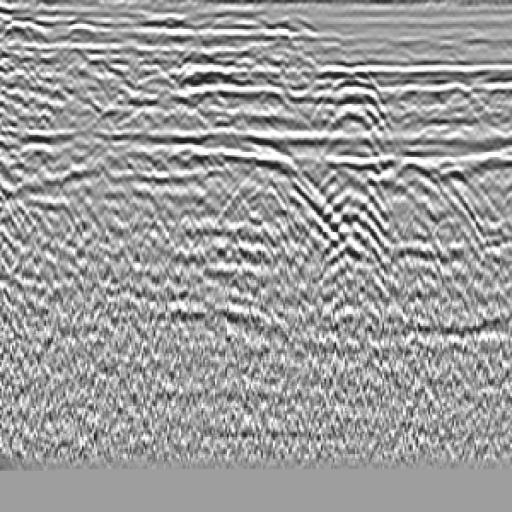non-metallic: (120, 97, 384, 334), (340, 111, 504, 339)
